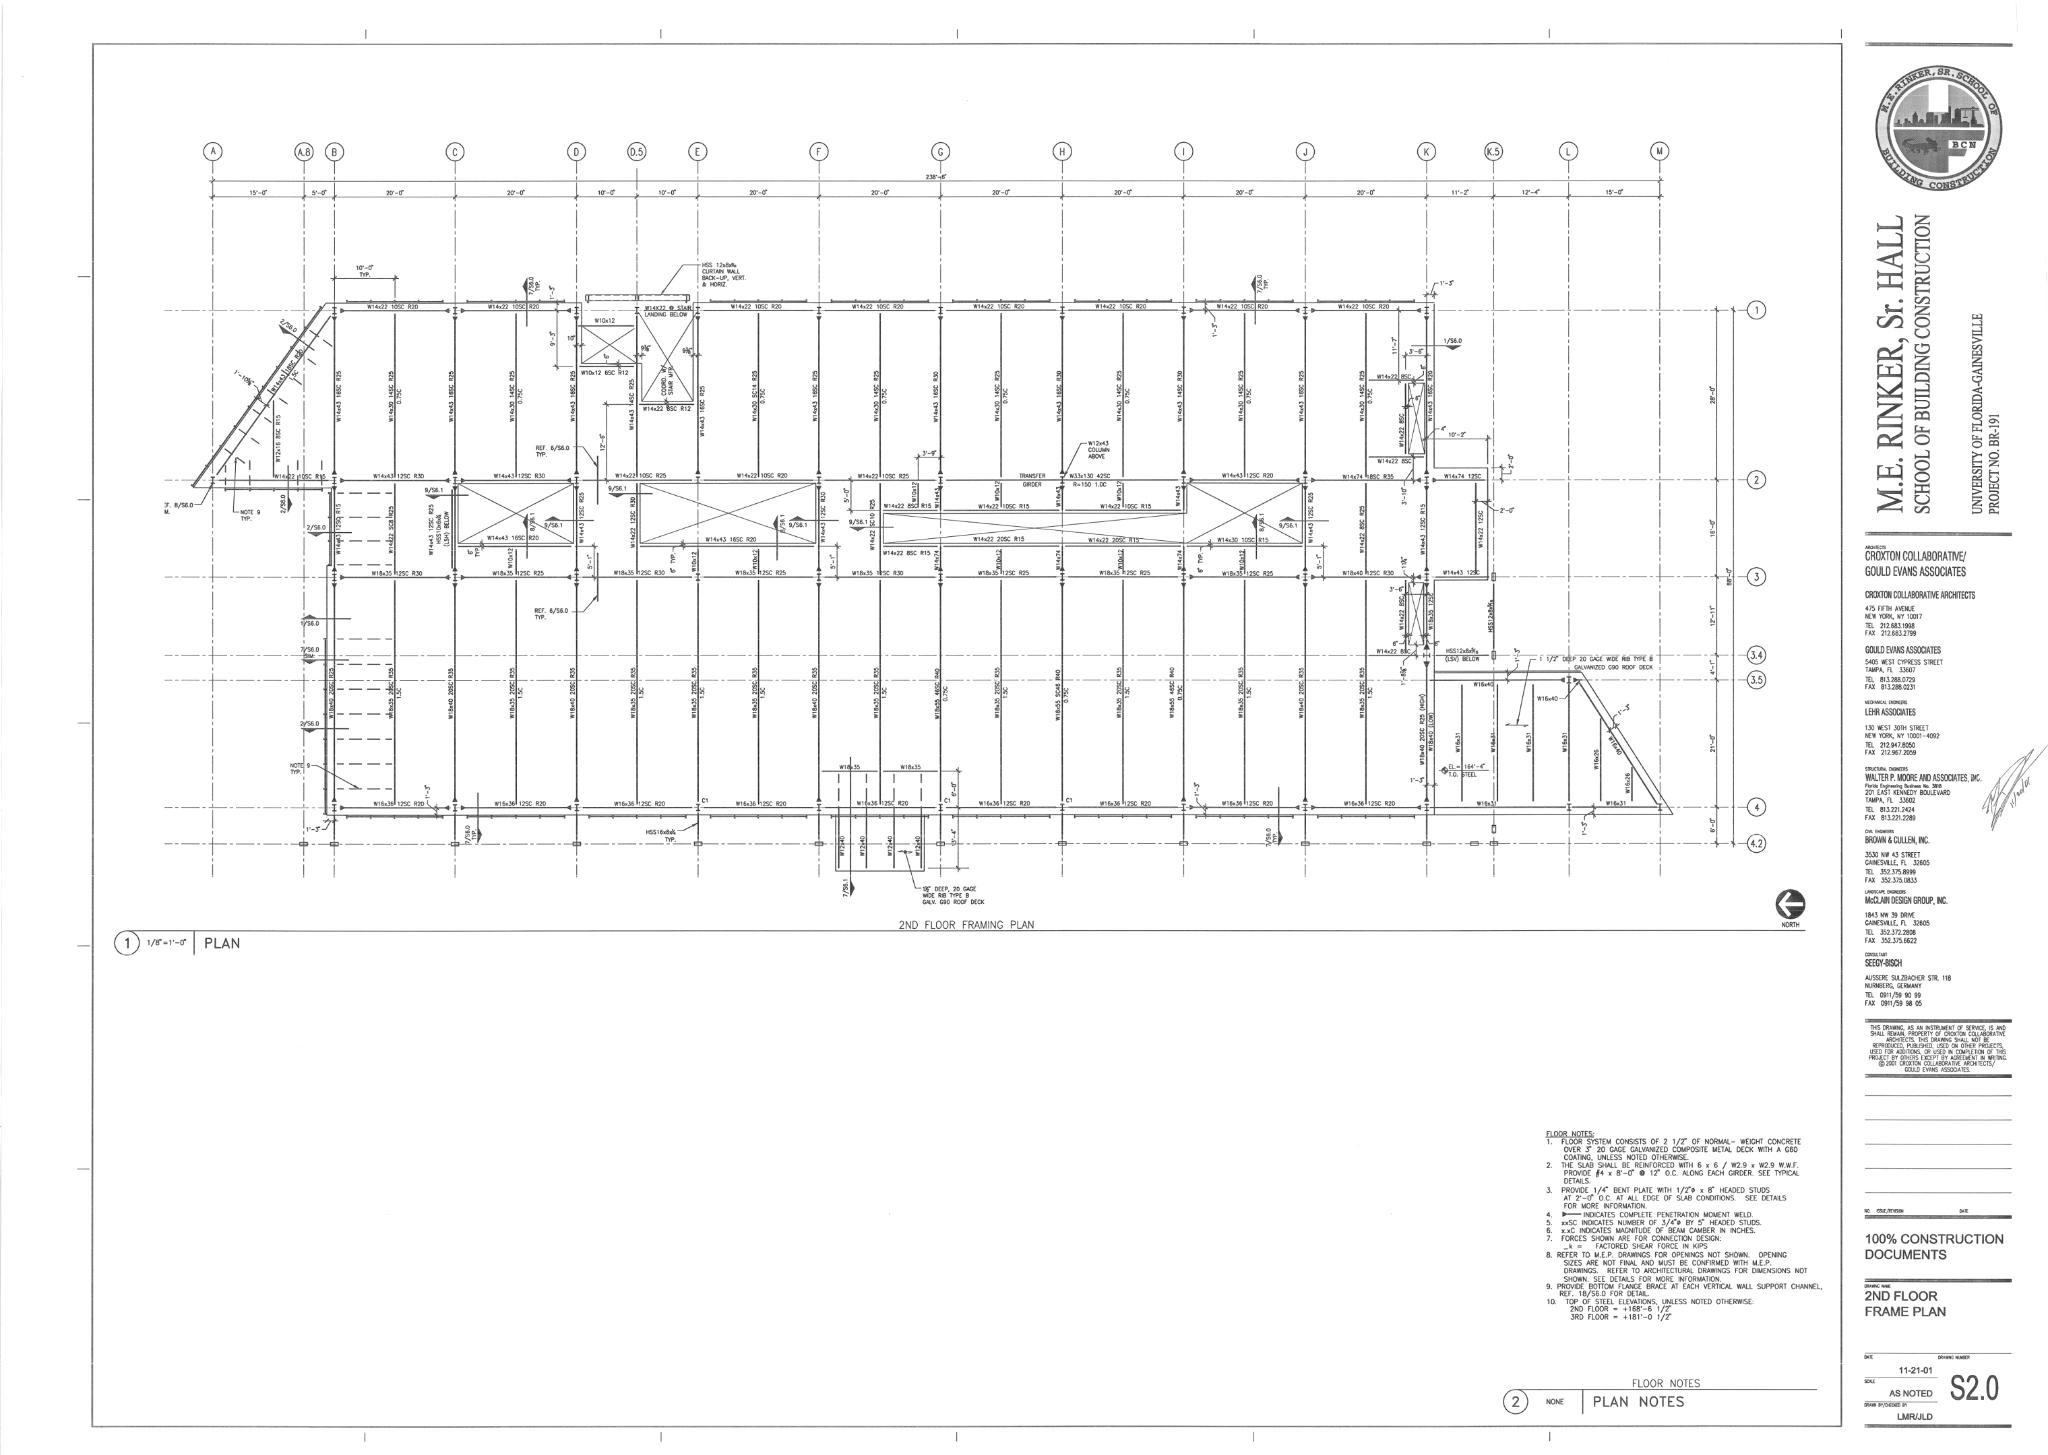elevation: (842, 756, 856, 899), (277, 317, 316, 352), (1265, 786, 1284, 848), (298, 645, 351, 665), (465, 792, 484, 844), (300, 613, 353, 629), (544, 514, 595, 530), (789, 514, 839, 530), (300, 719, 350, 735), (606, 484, 654, 500), (522, 276, 536, 329), (1410, 337, 1463, 351), (306, 524, 354, 539), (1251, 513, 1266, 560), (281, 464, 294, 517), (1278, 516, 1330, 529), (523, 512, 537, 560), (424, 486, 471, 500), (773, 513, 786, 562), (846, 519, 895, 532), (1251, 272, 1262, 325)
